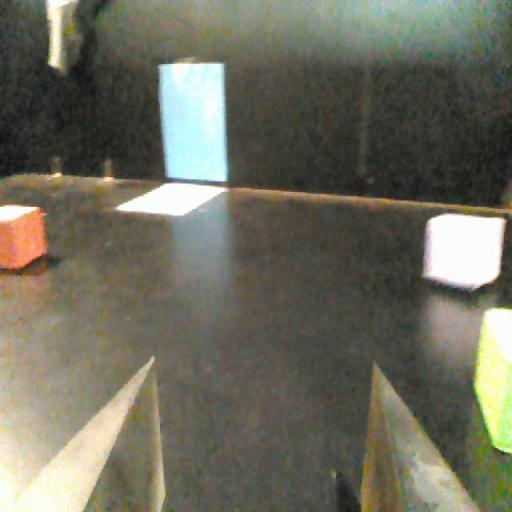cube: (420, 208, 506, 295), (475, 308, 512, 454), (0, 202, 48, 273)
